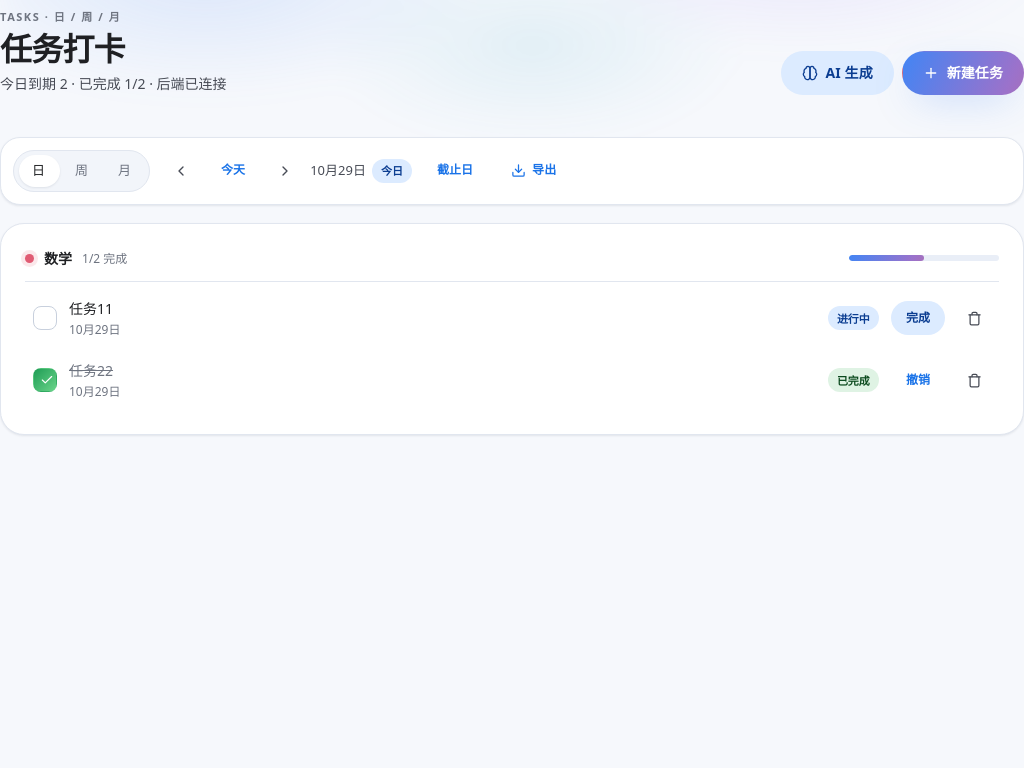
it: Tasks · 乐观打卡（store 驱动，页面薄层） › 删除失败 → 提示已入队重试（不做静默丢失）
The width and height of the screenshot is (1024, 768).
Expected: the text "今日到期 2 · 已完成 1/2 · 后端已连接" is shown, [0,73,227,95]
Click the button named "删除" in the row of "进行中" at (974, 318), box [957,301,991,335]
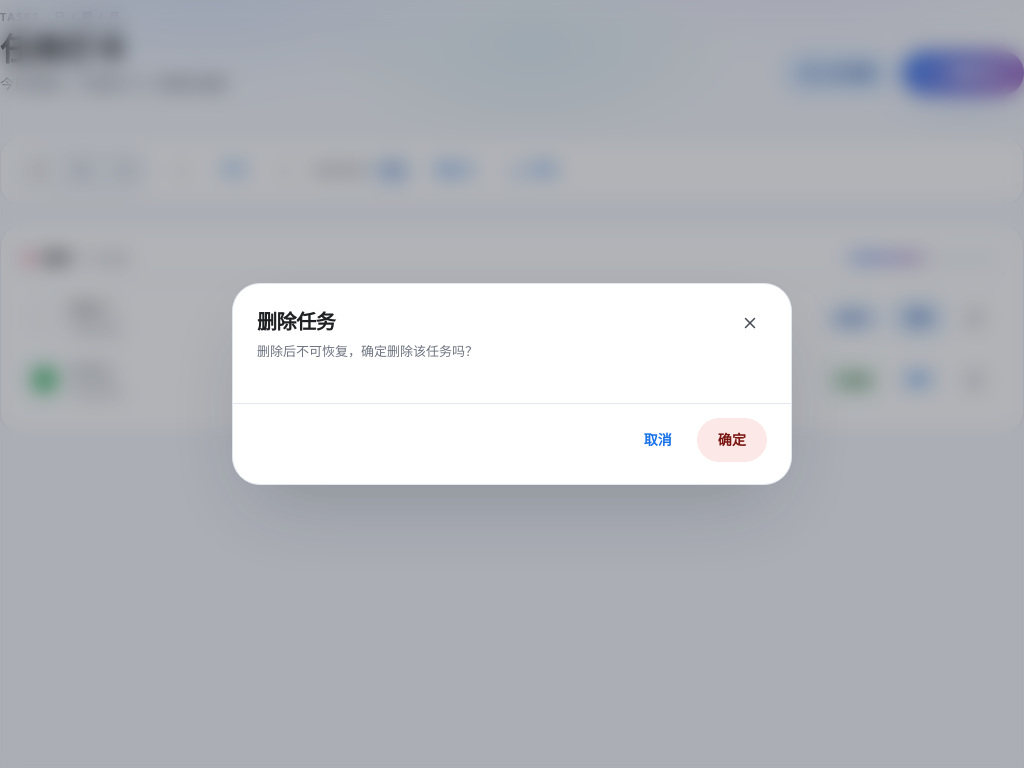
Click the button "确定" at (732, 440), box [697,418,767,462]
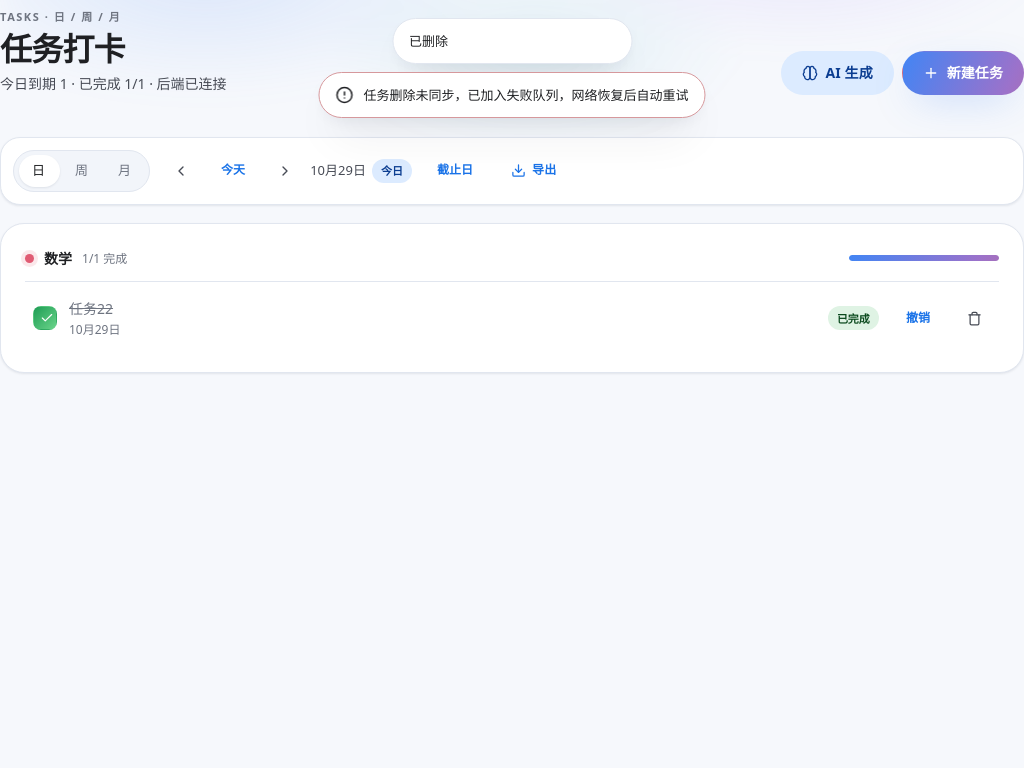
Now the text "任务删除未同步，已加入失败队列，网络恢复后自动重试" is shown, box [364,85,688,105]
